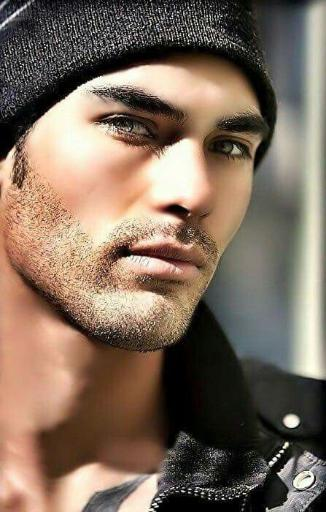left_eye: (211, 138, 255, 164)
left_lip_corner: (193, 255, 207, 276)
right_eye: (90, 111, 161, 144)
right_lip_corner: (120, 244, 139, 269)
